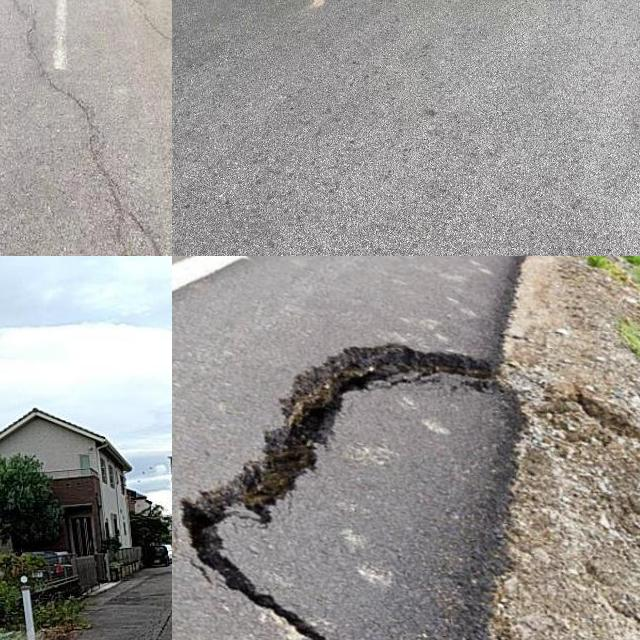Memanjang: (0, 0, 142, 256)
Pinggir: (172, 308, 559, 640)
